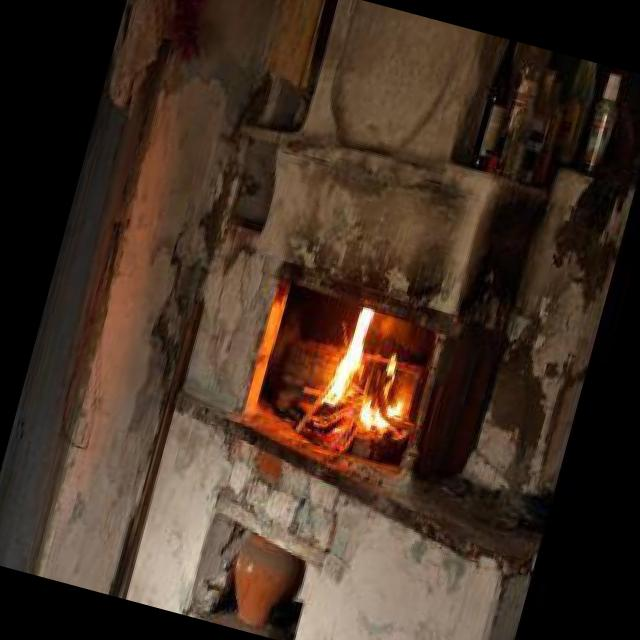Fire: (300, 285, 432, 446)
